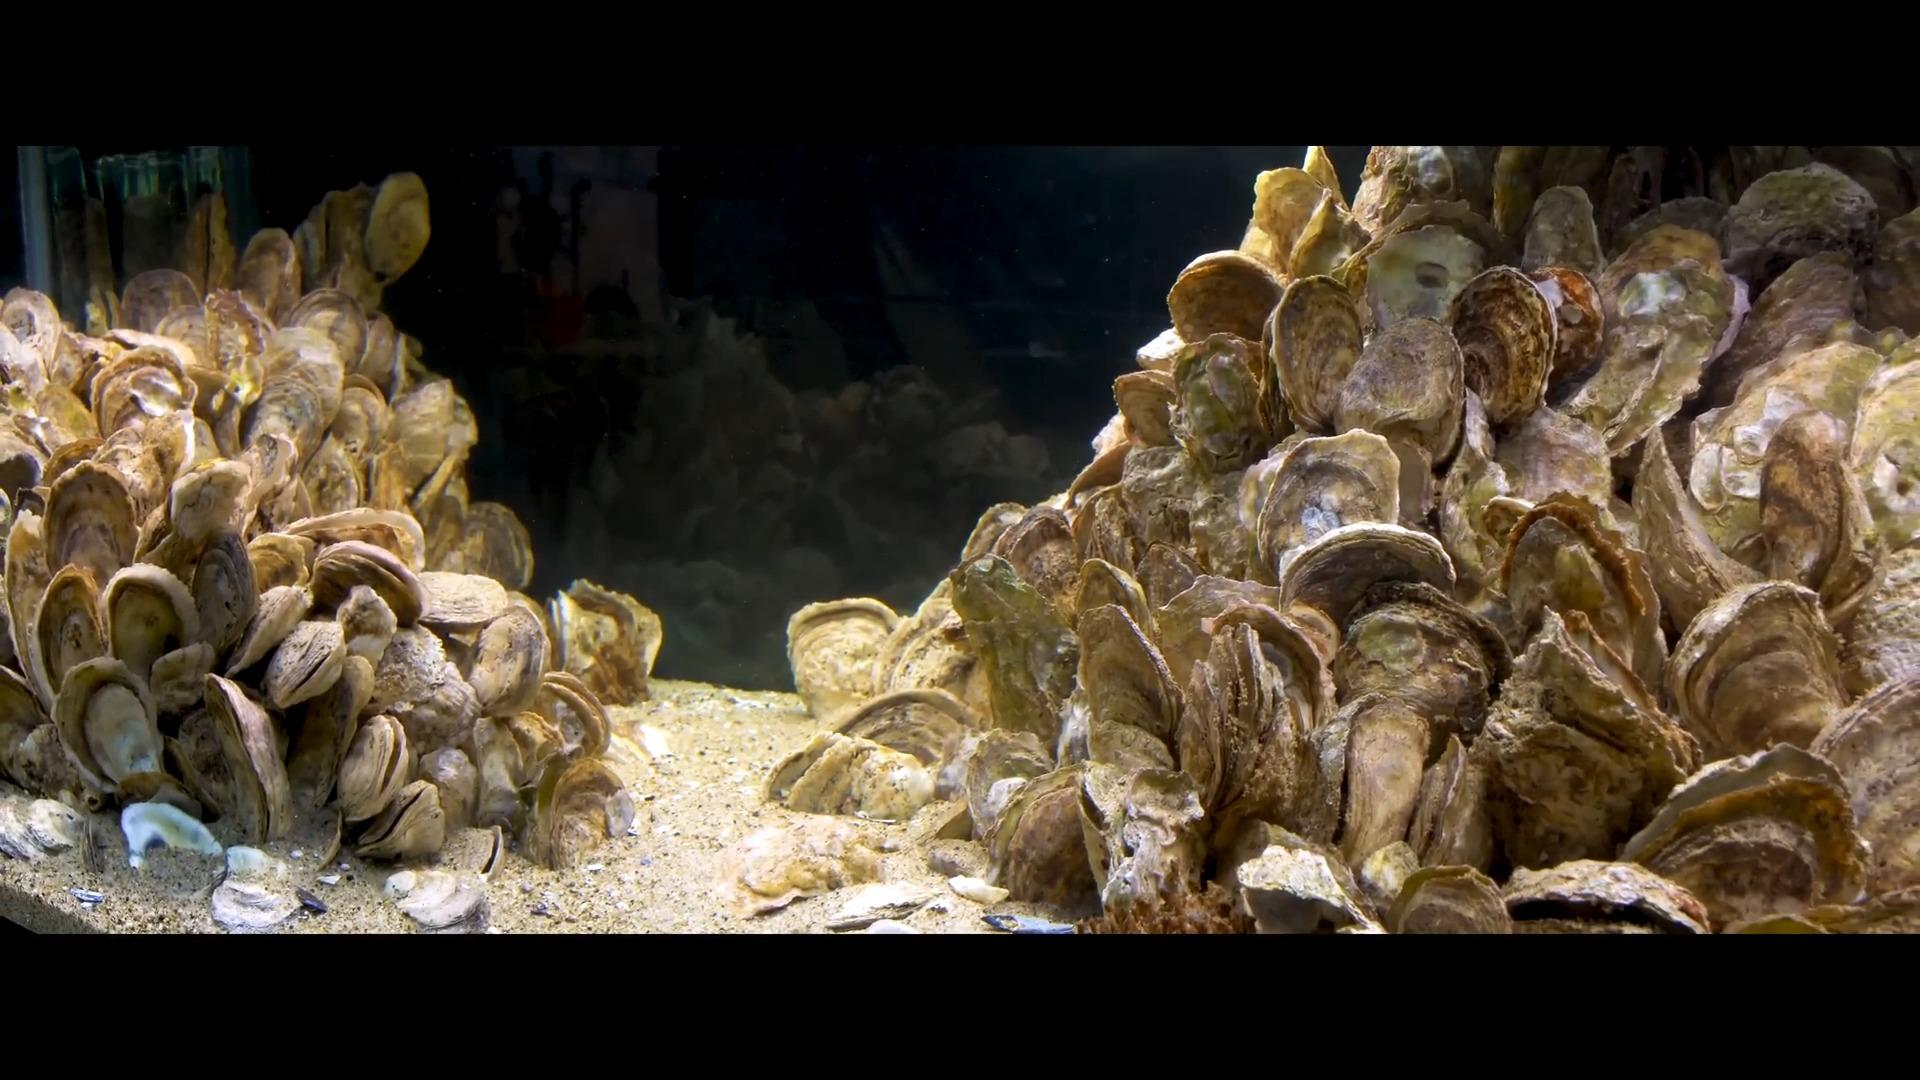Oyster: (1617, 742, 1861, 924), (1664, 579, 1850, 761), (1491, 496, 1665, 686), (1324, 579, 1510, 741), (1629, 431, 1756, 646), (1701, 249, 1865, 411), (1750, 411, 1869, 604), (1247, 429, 1402, 575), (1276, 518, 1458, 640), (1327, 310, 1465, 467), (1200, 600, 1335, 756), (1083, 765, 1207, 930), (1447, 261, 1561, 427), (1329, 698, 1433, 874), (1069, 595, 1179, 758), (982, 769, 1101, 918), (1353, 215, 1501, 332), (1499, 858, 1713, 938), (1263, 274, 1367, 436), (51, 654, 161, 806), (200, 673, 293, 847), (783, 593, 903, 724), (1166, 328, 1271, 472), (41, 458, 141, 601), (78, 421, 183, 553), (239, 347, 344, 471), (381, 825, 500, 935), (100, 563, 196, 696), (1164, 251, 1288, 349), (33, 564, 112, 717), (364, 624, 472, 735), (882, 604, 986, 719), (533, 756, 636, 872), (1411, 729, 1494, 872), (303, 537, 426, 628), (825, 684, 972, 760), (389, 372, 479, 493), (3, 508, 57, 695), (1383, 861, 1518, 935), (762, 733, 878, 818), (274, 505, 422, 571), (187, 527, 258, 661), (993, 500, 1083, 604), (1072, 554, 1160, 659), (282, 680, 349, 819), (1516, 178, 1605, 280), (91, 352, 194, 439), (467, 605, 549, 715), (335, 713, 413, 824), (361, 169, 434, 287), (225, 580, 314, 676), (165, 455, 255, 549), (1071, 476, 1146, 582), (282, 285, 369, 376), (311, 179, 373, 299), (455, 500, 535, 592), (353, 781, 446, 858), (12, 377, 98, 459), (262, 621, 343, 708), (1133, 535, 1209, 625), (5, 720, 83, 806), (117, 266, 206, 342), (495, 704, 570, 791), (471, 728, 531, 835), (413, 744, 479, 839), (236, 223, 299, 322), (535, 673, 611, 756), (148, 637, 219, 724), (0, 286, 66, 378), (335, 582, 398, 676), (203, 286, 273, 372), (1110, 368, 1183, 450), (0, 417, 58, 518), (207, 873, 303, 934), (240, 530, 315, 605), (112, 769, 204, 829), (298, 438, 364, 521), (419, 571, 509, 632), (239, 429, 302, 510), (1064, 435, 1133, 504), (181, 191, 223, 301), (961, 498, 1030, 566), (435, 825, 506, 878), (83, 811, 127, 876), (737, 885, 807, 918), (926, 800, 973, 844), (547, 595, 574, 671), (309, 810, 343, 868), (78, 823, 100, 876)
